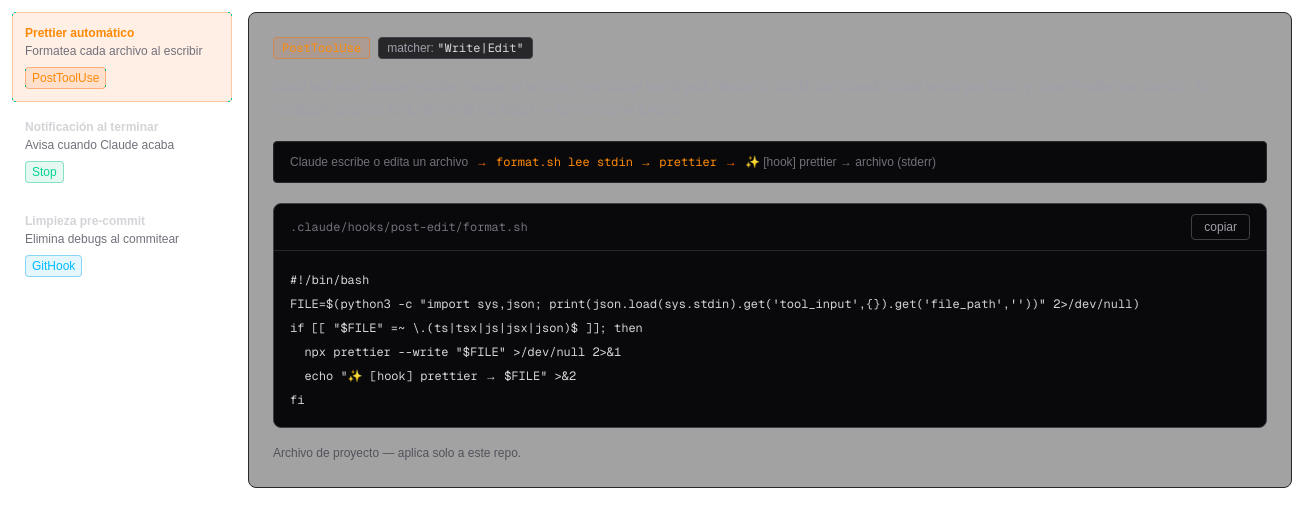
HooksInteractivos › el botón copiar muestra "copiado" tras hacer clic
Click the button with aria-label "copiar configuración al portapapeles". click: (1221, 226)
box: x1=1191 y1=214 x2=1250 y2=240
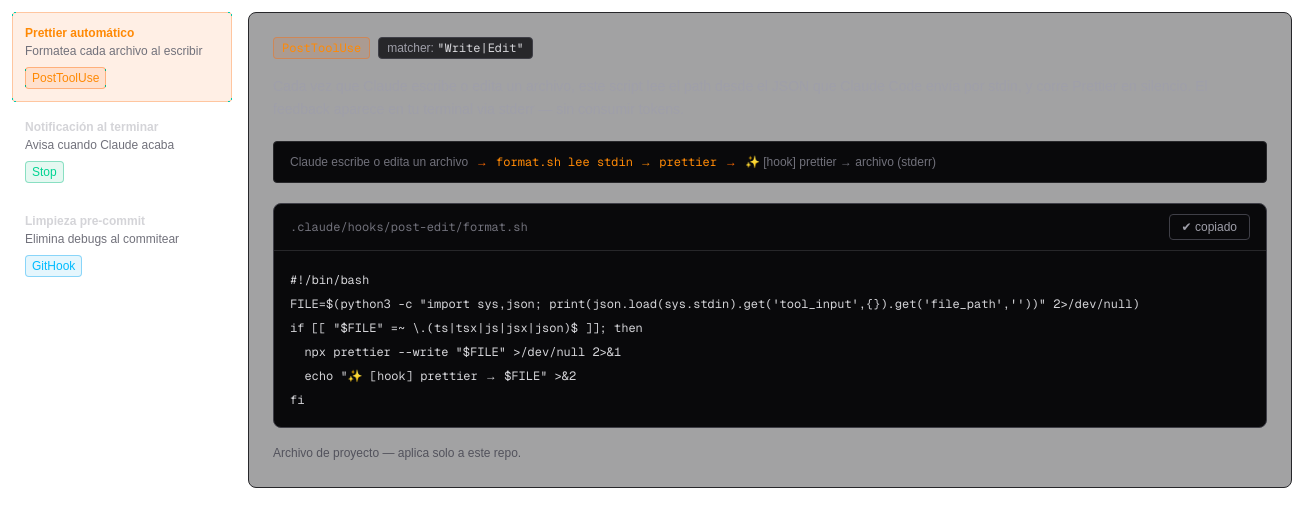
expect the button "✔ copiado" is shown: met, box x1=1169 y1=214 x2=1250 y2=240
